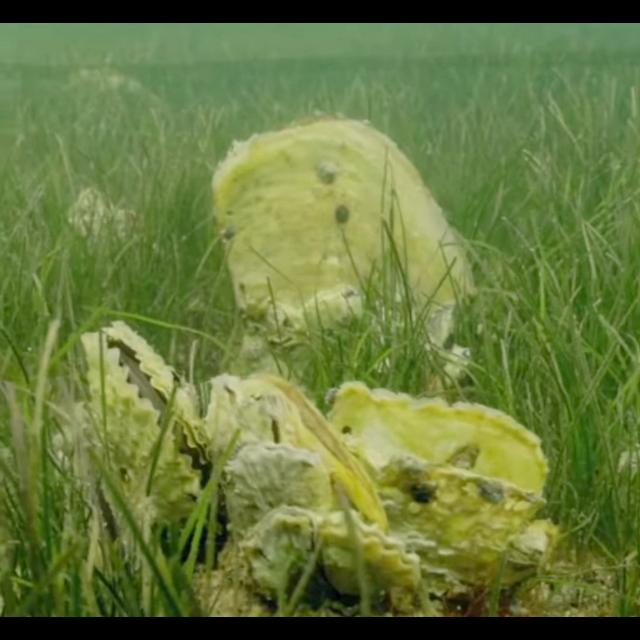Oyster-Closed: (209, 112, 477, 346), (199, 372, 381, 528), (222, 436, 328, 534)
Oyster-Open: (325, 380, 557, 592), (76, 318, 206, 532), (241, 502, 421, 612)
